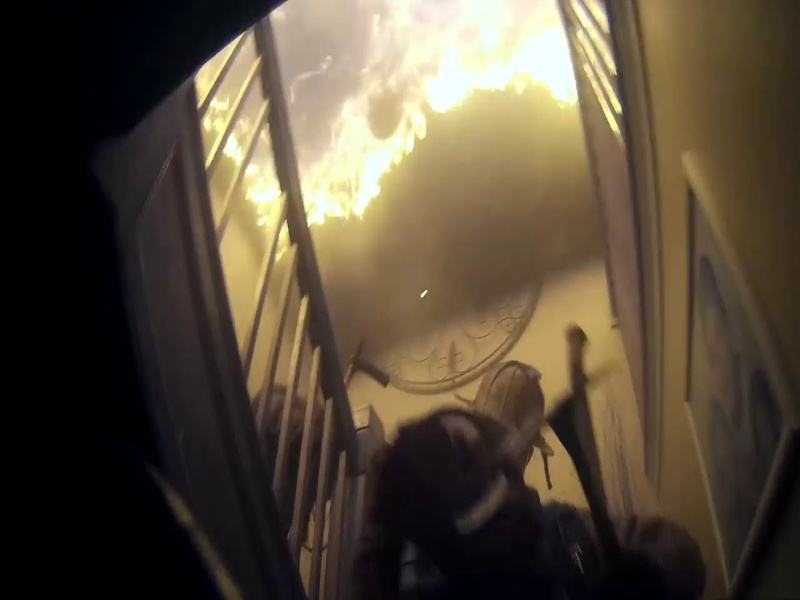fire: (409, 1, 586, 110), (297, 110, 432, 231), (245, 118, 291, 224)
